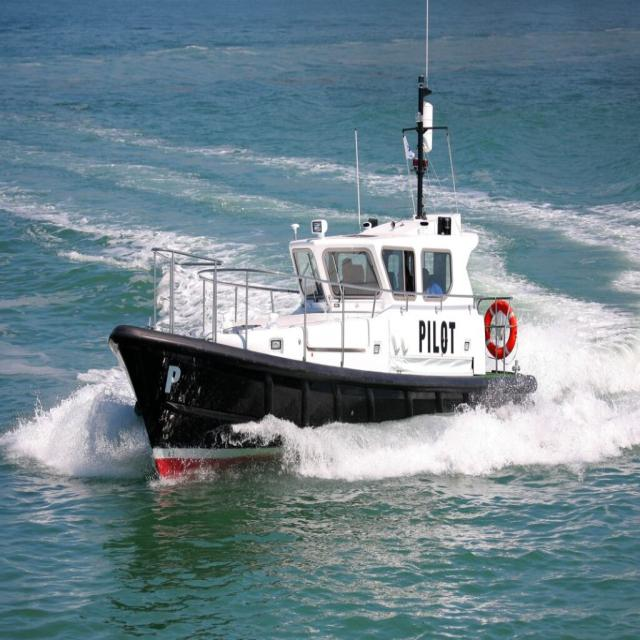houseboat: (102, 179, 528, 479)
